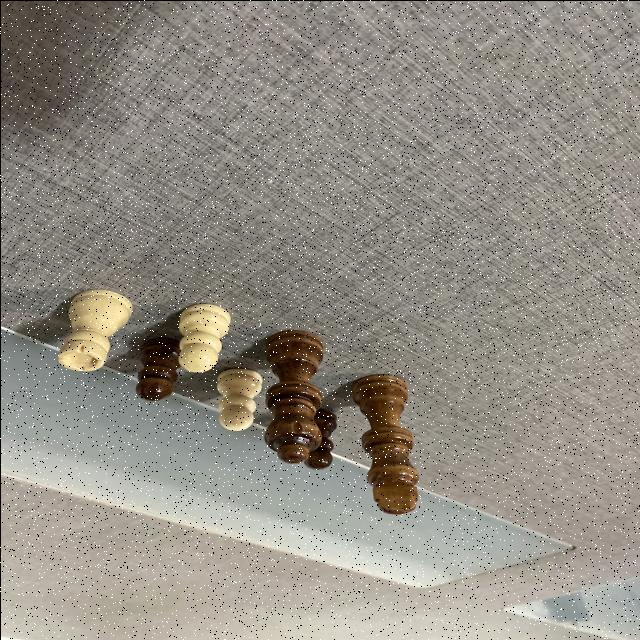Black-King: (347, 372, 421, 514)
Black-Pawn: (132, 337, 182, 402), (300, 407, 338, 470)
Black-Queen: (260, 328, 322, 464)
White-Pawn: (174, 302, 232, 372), (212, 368, 262, 432)
White-Rook: (54, 288, 134, 372)
